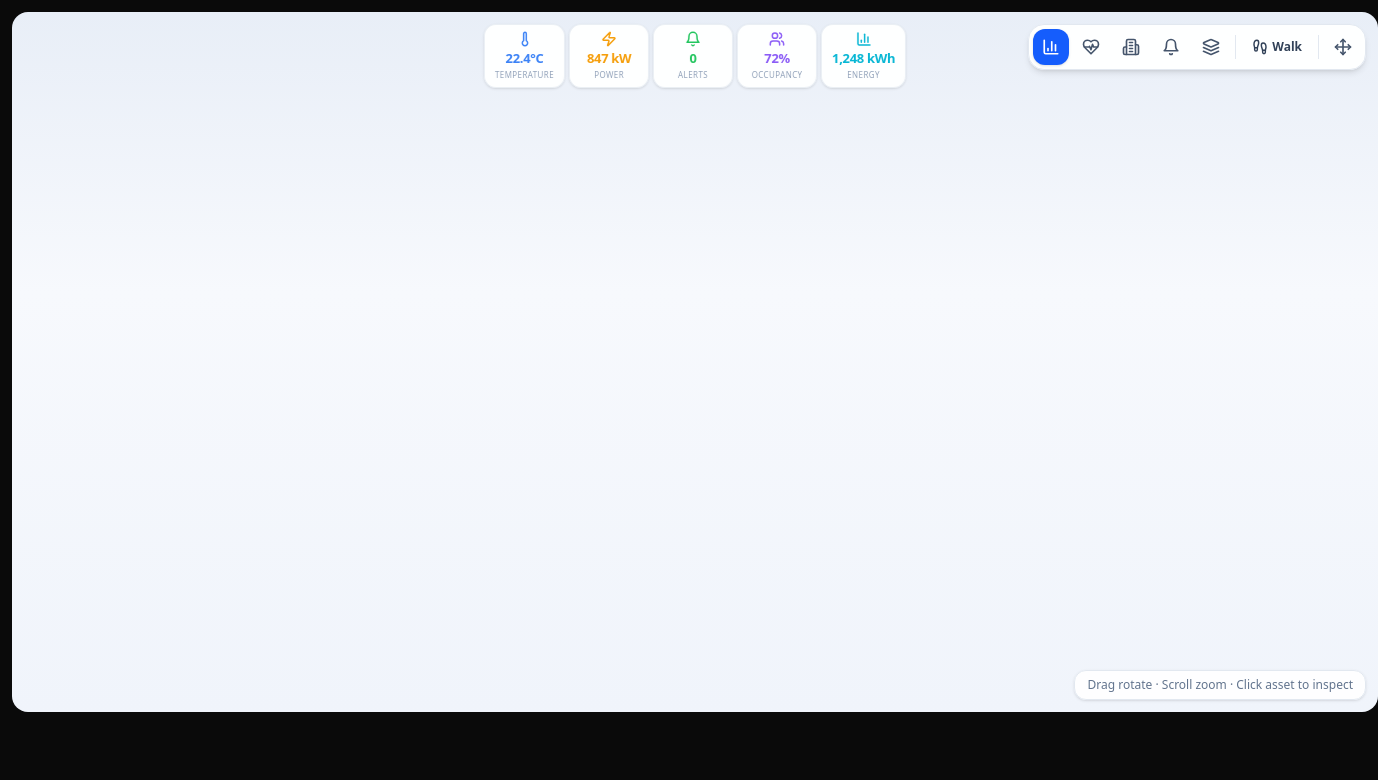
it: DigitalTwinViewer3D › icon rail button toggles the events overlay on click
Click the button named "Live Event Feed": point(1171, 47) [1153,29,1189,65]
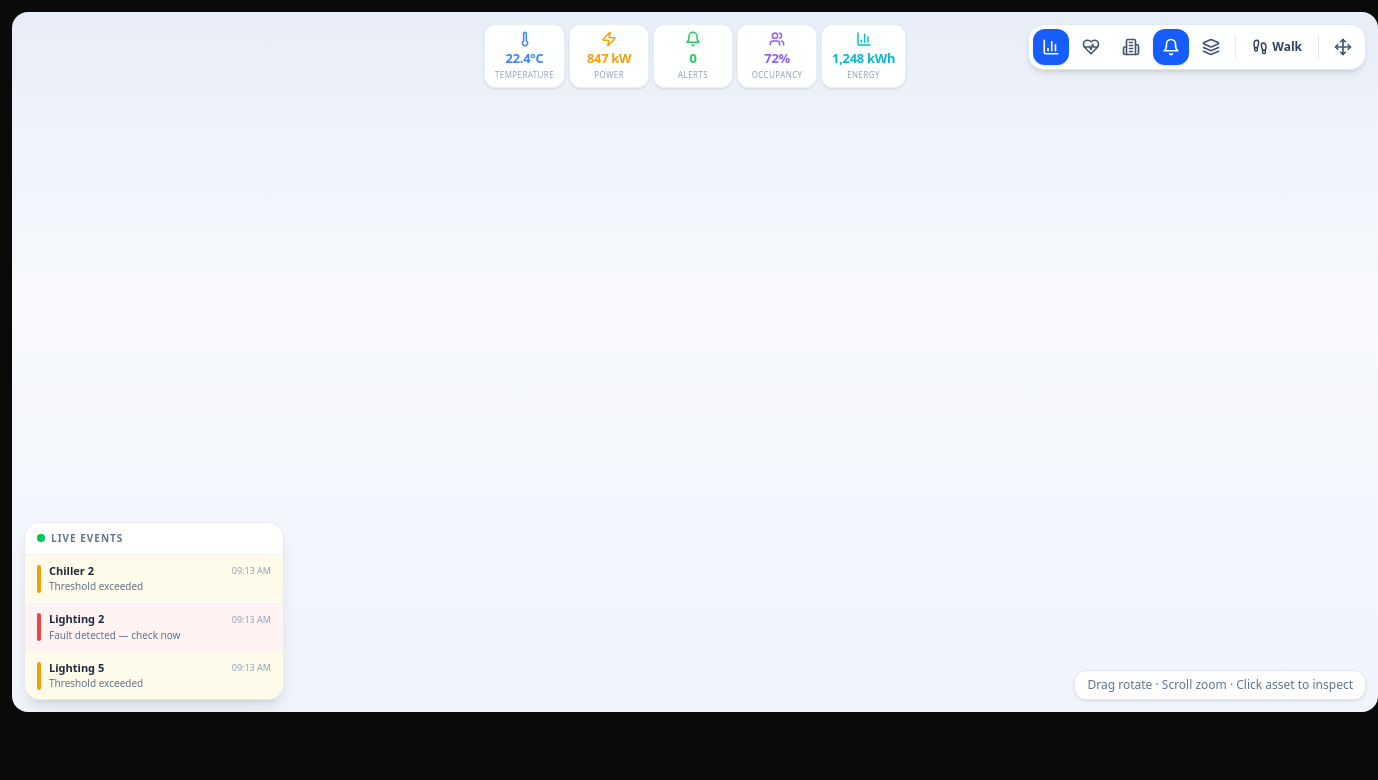
Check: the element that starts with "Live Events" is shown, box [24,522,284,700]
